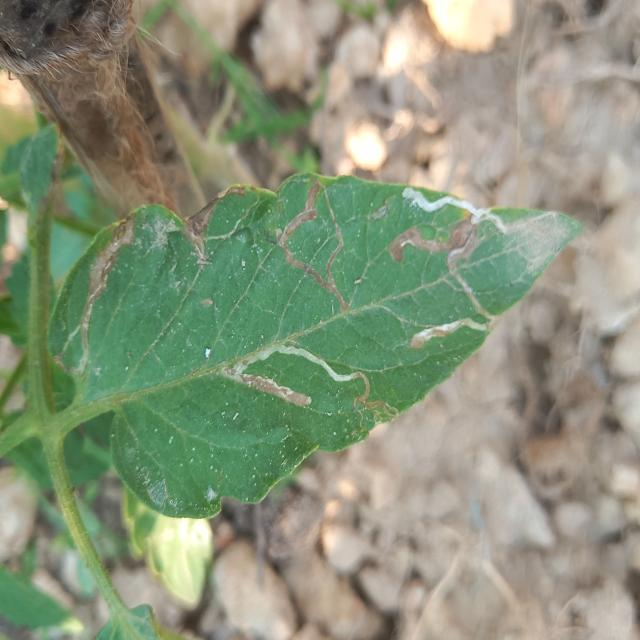Tuta absoluta: (408, 246, 517, 375), (59, 210, 140, 374), (268, 183, 349, 321), (234, 337, 374, 398), (399, 184, 511, 233), (222, 361, 313, 410), (387, 218, 477, 263), (338, 369, 402, 432)
